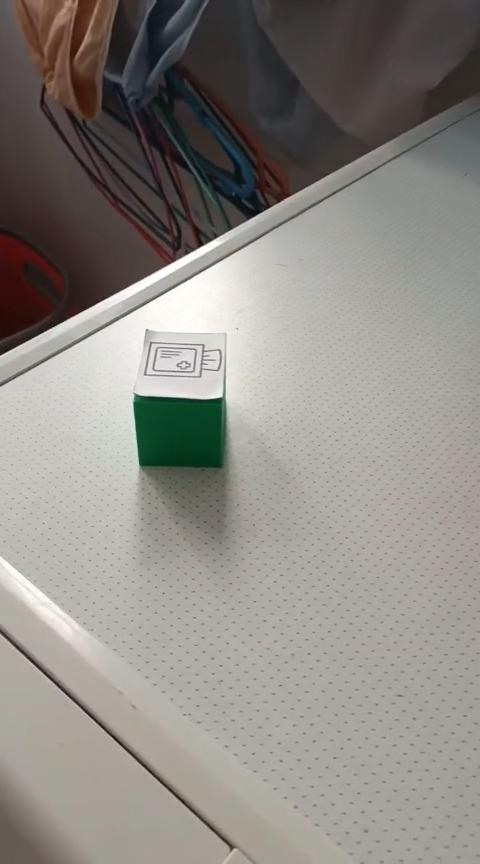Gauze: (131, 328, 227, 469)
